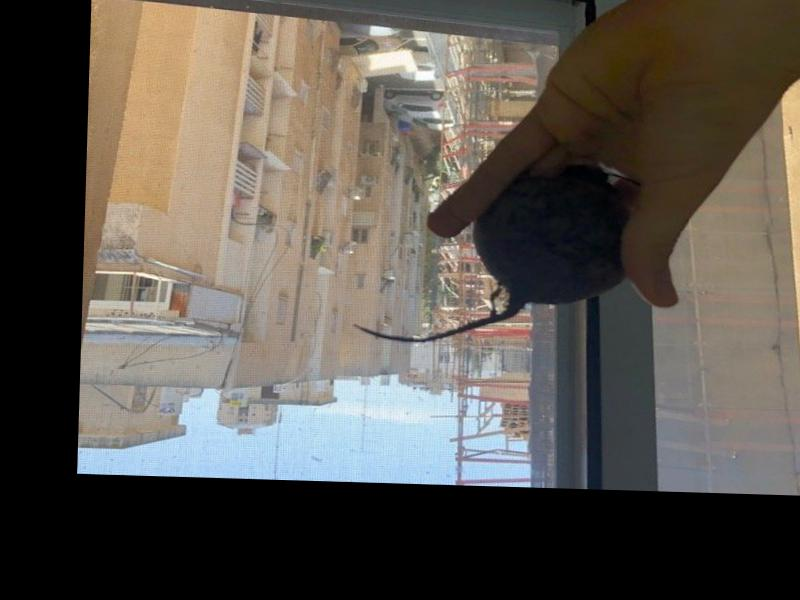Beet: (351, 159, 627, 350)
